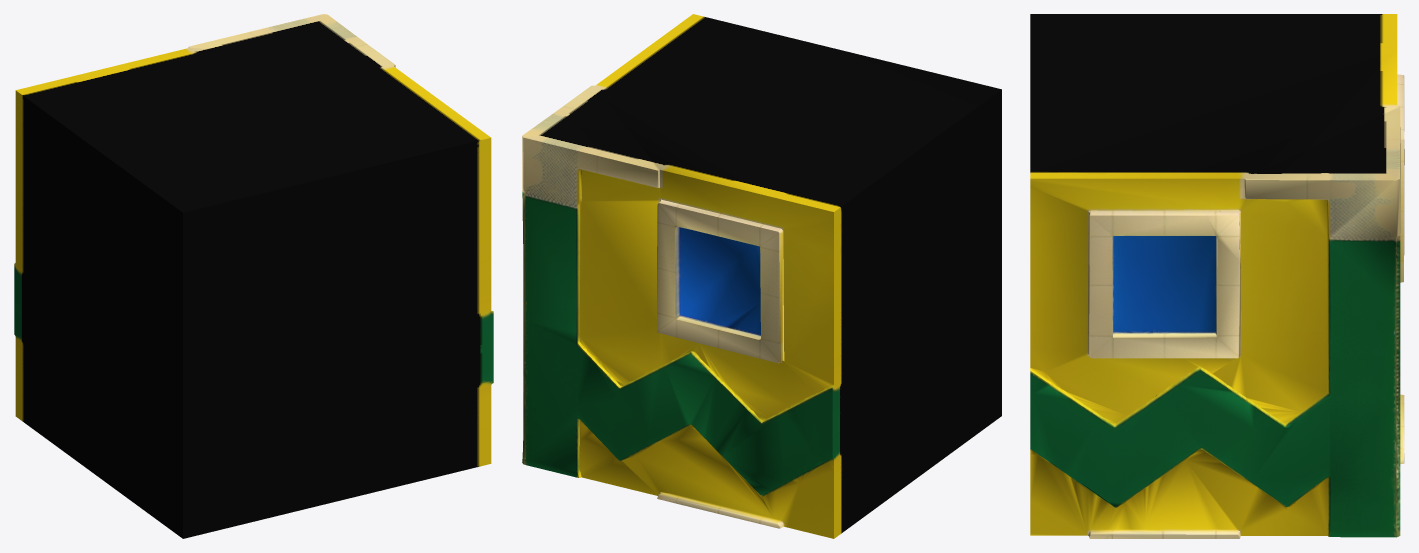
The model's file is 8-upper-walls-back-right.fbx.
3 renders of one model, left to right at view 1: azimuth 30°, elevation 25°; view 2: azimuth 150°, elevation 25°; view 3: azimuth 270°, elevation 25°, orthographic. The views are drawn at different scales.
Parts seen in each view (by area): view 1: upper-walls-back-right; view 2: upper-walls-back-right; view 3: upper-walls-back-right.
Part boxes in pixels (x1,y1,x2,y2): upper-walls-back-right: (14,14,493,538); upper-walls-back-right: (522,14,1001,538); upper-walls-back-right: (1030,14,1404,538).
Bounding box in the file's own units: 4796 × 4752 × 4512.
1 material, 1 textured.
